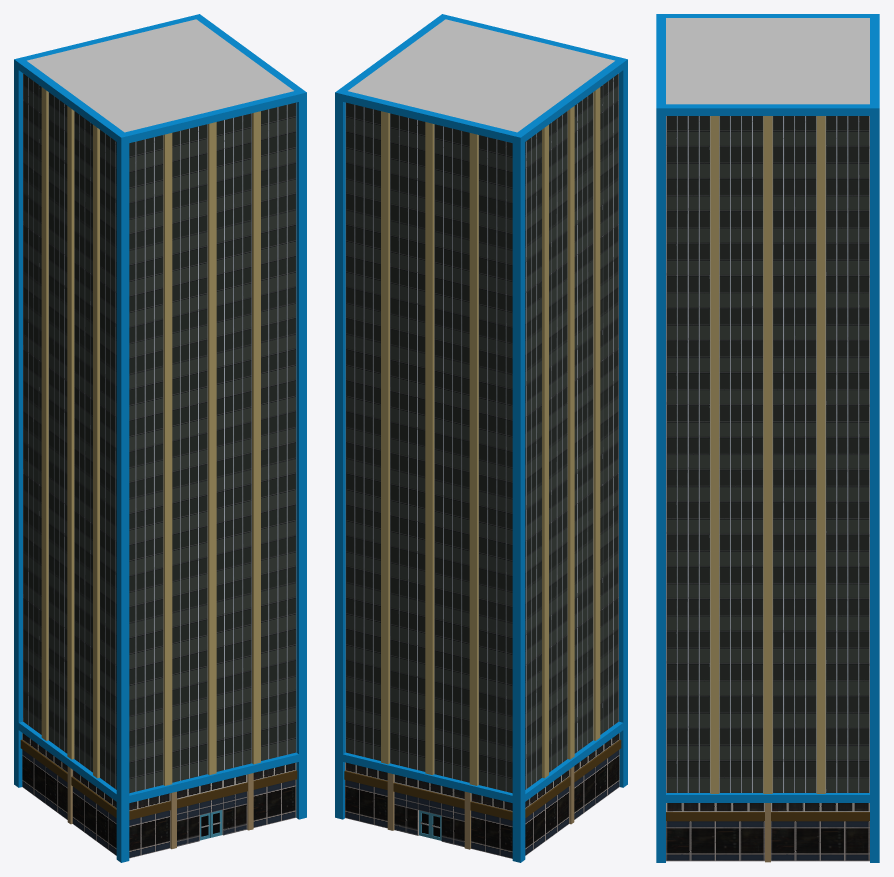
The picture shows the model from 3 angles, left to right: view 1: azimuth 30°, elevation 25°; view 2: azimuth 150°, elevation 25°; view 3: azimuth 270°, elevation 25°; orthographic projection. The views are drawn at different scales.
Parts seen in each view (by area): view 1: Building; view 2: Building; view 3: Building.
Boxes of the visible parts, box(x1,y1,x2,y2) form: Building: box(14, 14, 306, 862); Building: box(335, 14, 627, 862); Building: box(656, 14, 879, 862).
Size of what is drawn, in the model's own units: 18.76 by 70.02 by 18.76.
